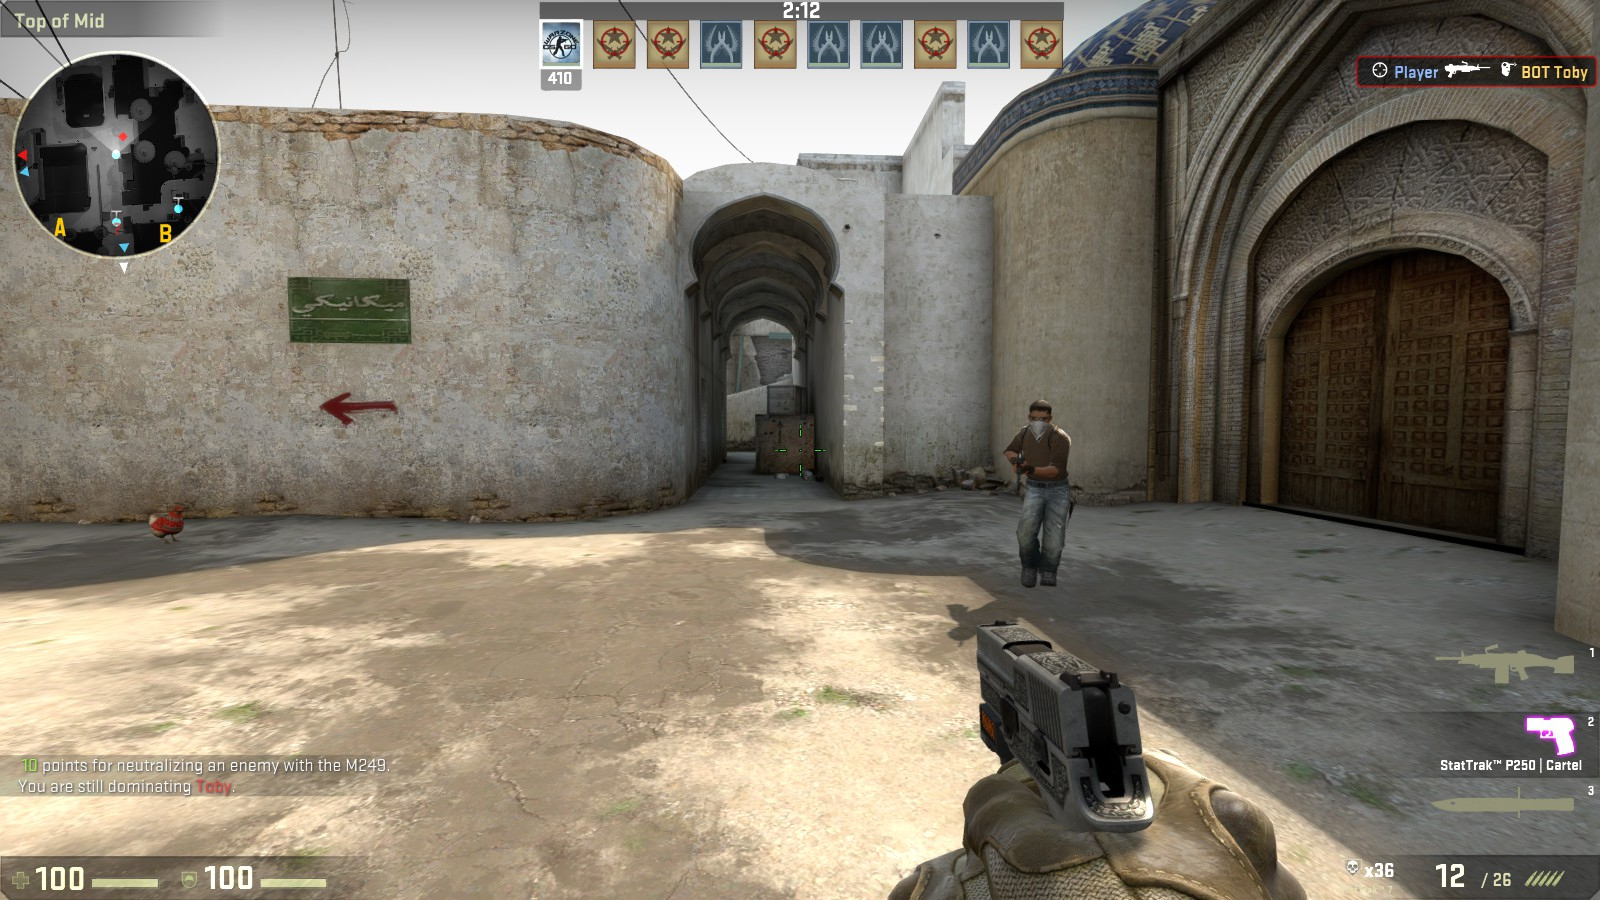t: (1002, 395, 1078, 585)
th: (1027, 397, 1051, 438)
